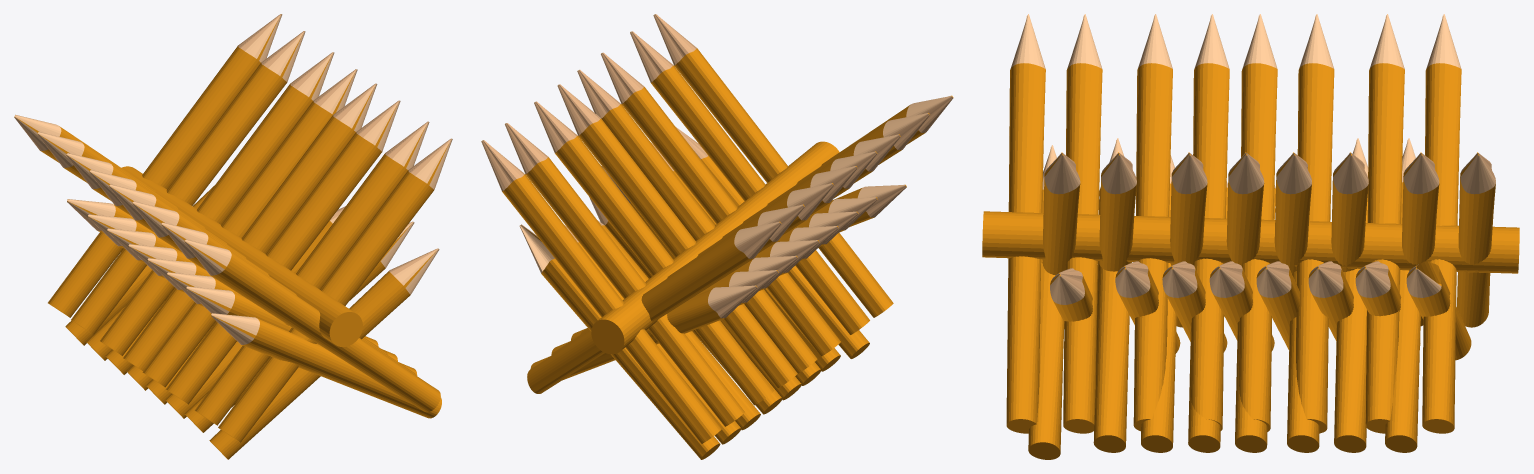
Rendered from Barracks.glb.
The picture shows the model from 3 angles, left to right: view 1: azimuth 30°, elevation 25°; view 2: azimuth 150°, elevation 25°; view 3: azimuth 270°, elevation 25°; orthographic projection. The views are drawn at different scales.
Parts seen in each view (by area): view 1: Circle.049, Circle.085, Circle.073, Circle.055, Circle.067, Circle.079, Circle.091, Circle.088, Circle.061, Circle.001, Circle.099, Circle.002 (+34 smaller); view 2: Circle.055, Circle.049, Circle.067, Circle.061, Circle.073, Circle.091, Circle.085, Circle.079, Circle.001, Circle.058, Circle.044, Circle.002 (+22 smaller); view 3: Circle.001, Circle.088, Circle.058, Circle.052, Circle.076, Circle.094, Circle.070, Circle.082, Circle.064, Circle.005, Circle.035, Circle.099 (+45 smaller).
Part boxes in pixels (x1=…): Circle.049: x1=71, y1=36, x2=301, y2=334; Circle.085: x1=218, y1=144, x2=448, y2=442; Circle.073: x1=166, y1=106, x2=396, y2=404; Circle.055: x1=48, y1=21, x2=277, y2=317; Circle.067: x1=100, y1=55, x2=331, y2=355; Circle.079: x1=142, y1=88, x2=373, y2=387; Circle.091: x1=195, y1=127, x2=425, y2=425; Circle.088: x1=184, y1=241, x2=440, y2=412; Circle.061: x1=123, y1=73, x2=354, y2=371; Circle.001: x1=121, y1=166, x2=362, y2=346; Circle.099: x1=211, y1=315, x2=441, y2=418; Circle.002: x1=209, y1=251, x2=435, y2=459; Circle.055: x1=481, y1=140, x2=721, y2=443; Circle.049: x1=505, y1=123, x2=744, y2=426; Circle.067: x1=534, y1=102, x2=773, y2=405; Circle.061: x1=578, y1=118, x2=797, y2=387; Circle.073: x1=601, y1=53, x2=840, y2=356; Circle.091: x1=630, y1=32, x2=869, y2=334; Circle.085: x1=655, y1=14, x2=893, y2=317; Circle.079: x1=601, y1=104, x2=817, y2=373; Circle.001: x1=591, y1=141, x2=839, y2=354; Circle.058: x1=527, y1=221, x2=781, y2=393; Circle.044: x1=521, y1=224, x2=720, y2=459; Circle.002: x1=701, y1=156, x2=869, y2=358; Circle.001: x1=982, y1=211, x2=1519, y2=273; Circle.088: x1=1006, y1=63, x2=1045, y2=433; Circle.058: x1=1422, y1=63, x2=1461, y2=433; Circle.052: x1=1365, y1=63, x2=1404, y2=433; Circle.076: x1=1133, y1=63, x2=1172, y2=431; Circle.094: x1=1063, y1=63, x2=1102, y2=433; Circle.070: x1=1296, y1=63, x2=1334, y2=433; Circle.082: x1=1191, y1=63, x2=1229, y2=430; Circle.064: x1=1239, y1=63, x2=1277, y2=431; Circle.005: x1=1093, y1=188, x2=1131, y2=452; Circle.035: x1=1334, y1=194, x2=1367, y2=452; Circle.099: x1=1028, y1=189, x2=1064, y2=459.
Size of the model in its own units: 5.23 by 4.94 by 7.07.
